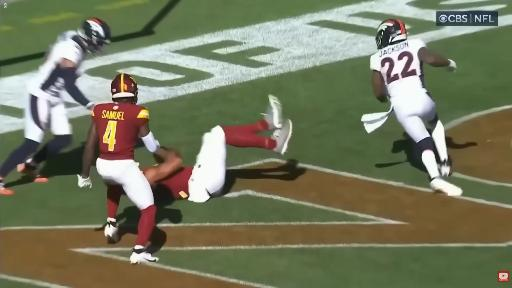Helmet: (78, 18, 110, 53), (376, 19, 407, 49), (111, 74, 138, 103)
Jersey: (29, 31, 85, 102), (92, 103, 148, 160), (371, 39, 426, 97), (155, 167, 193, 199)
Player: (0, 18, 110, 194), (78, 74, 164, 263), (371, 19, 462, 195), (143, 96, 292, 202)
